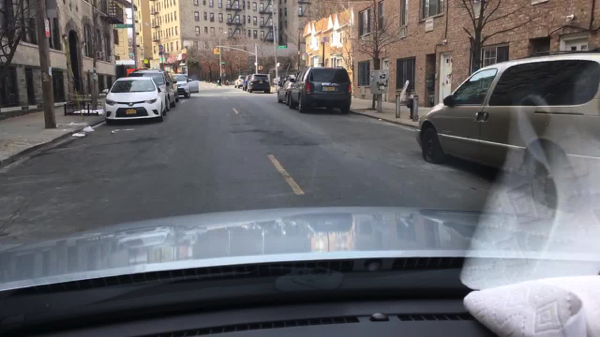car: (417, 51, 599, 195), (288, 66, 352, 115), (103, 77, 164, 123), (123, 70, 175, 110), (175, 74, 199, 99), (276, 74, 294, 104), (247, 74, 271, 94), (167, 73, 177, 99), (234, 75, 245, 88), (242, 77, 250, 93)
traffic light: (213, 45, 217, 56), (257, 65, 264, 70), (216, 47, 220, 55)
traffic sign: (115, 22, 132, 31), (277, 45, 288, 51), (143, 59, 149, 66), (158, 51, 167, 55), (158, 45, 163, 52), (220, 61, 228, 65)
